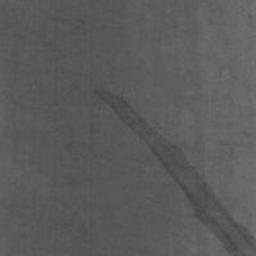Water spot: (92, 88, 256, 256)
